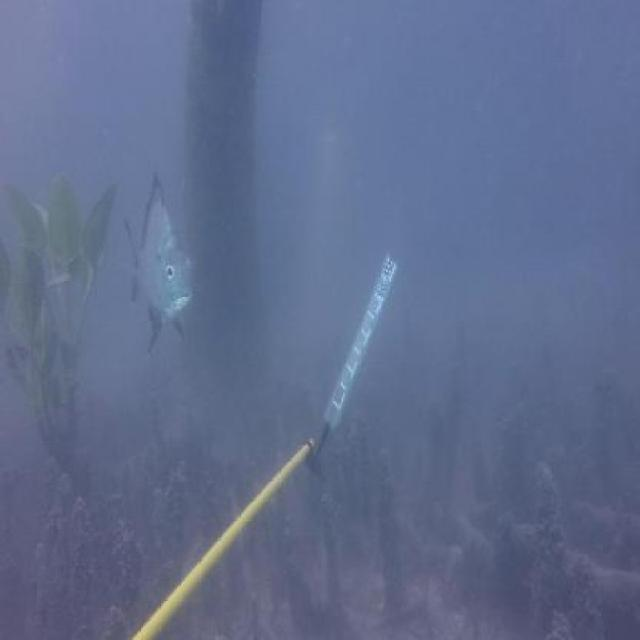acanthopagrus_palmaris: (125, 164, 200, 362)
